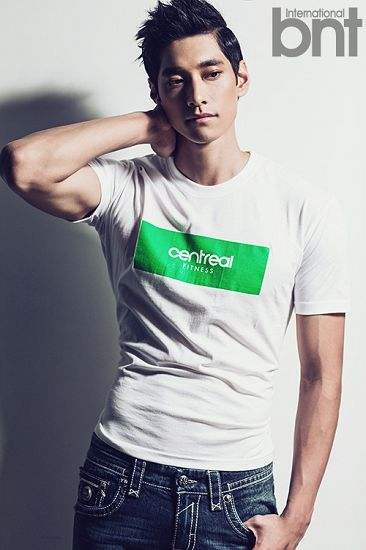person: (72, 12, 312, 550)
